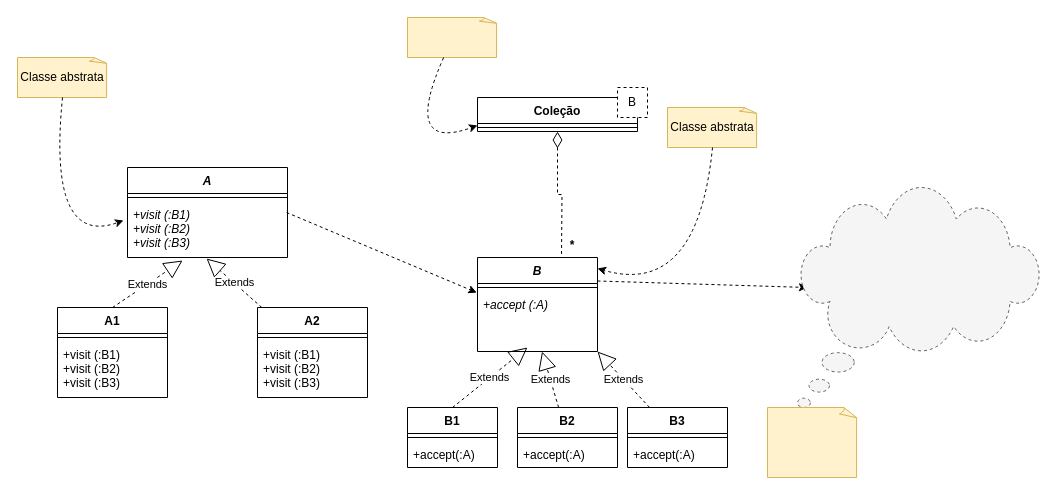
Some shapes in this 1058 by 495 pixel diagram are drawn without their labels. The centre of each missing label's shape, as x and y in pixels:
Classe com generics: point (452, 37)
Estrutura com ao menos 3 classes de livre escolha: point (812, 442)
